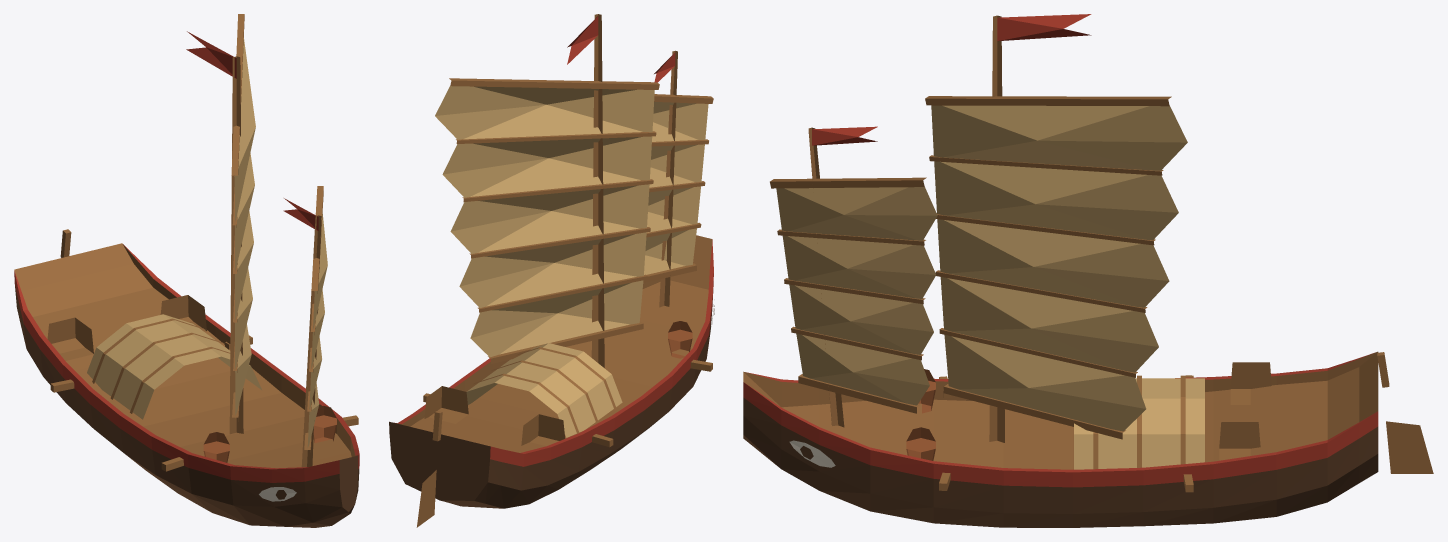
The model's file is ship_junk.glb.
3 views of the same model, side by side, from view 1: azimuth 30°, elevation 25°; view 2: azimuth 150°, elevation 25°; view 3: azimuth 270°, elevation 25° (orthographic). The views are drawn at different scales.
Parts seen in each view (by area): view 1: ship_junk; view 2: ship_junk; view 3: ship_junk.
Part boxes in pixels (box(x1,y1,x2,y2)): ship_junk: box(14, 14, 359, 527); ship_junk: box(389, 14, 714, 527); ship_junk: box(743, 14, 1433, 527).
Bounding box in the file's own units: 5.16 × 10.71 × 13.71.
